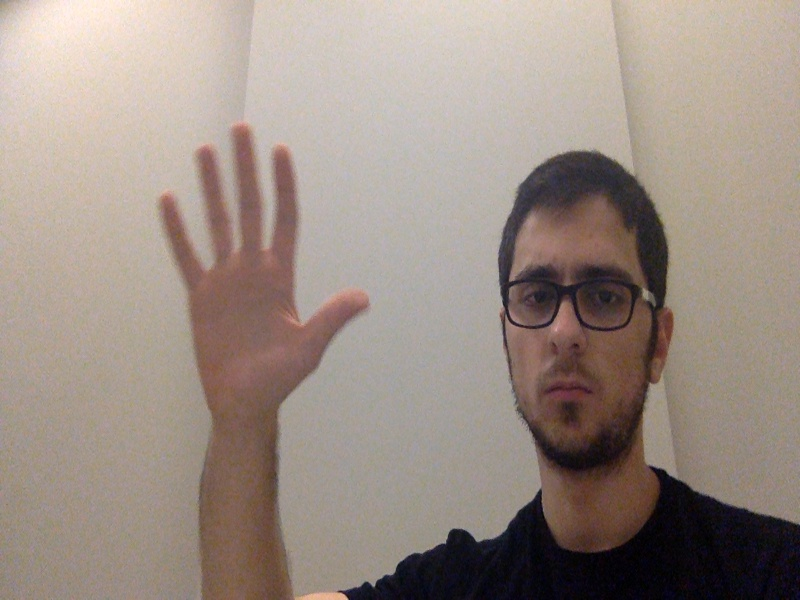5-hand: (153, 123, 372, 421)
